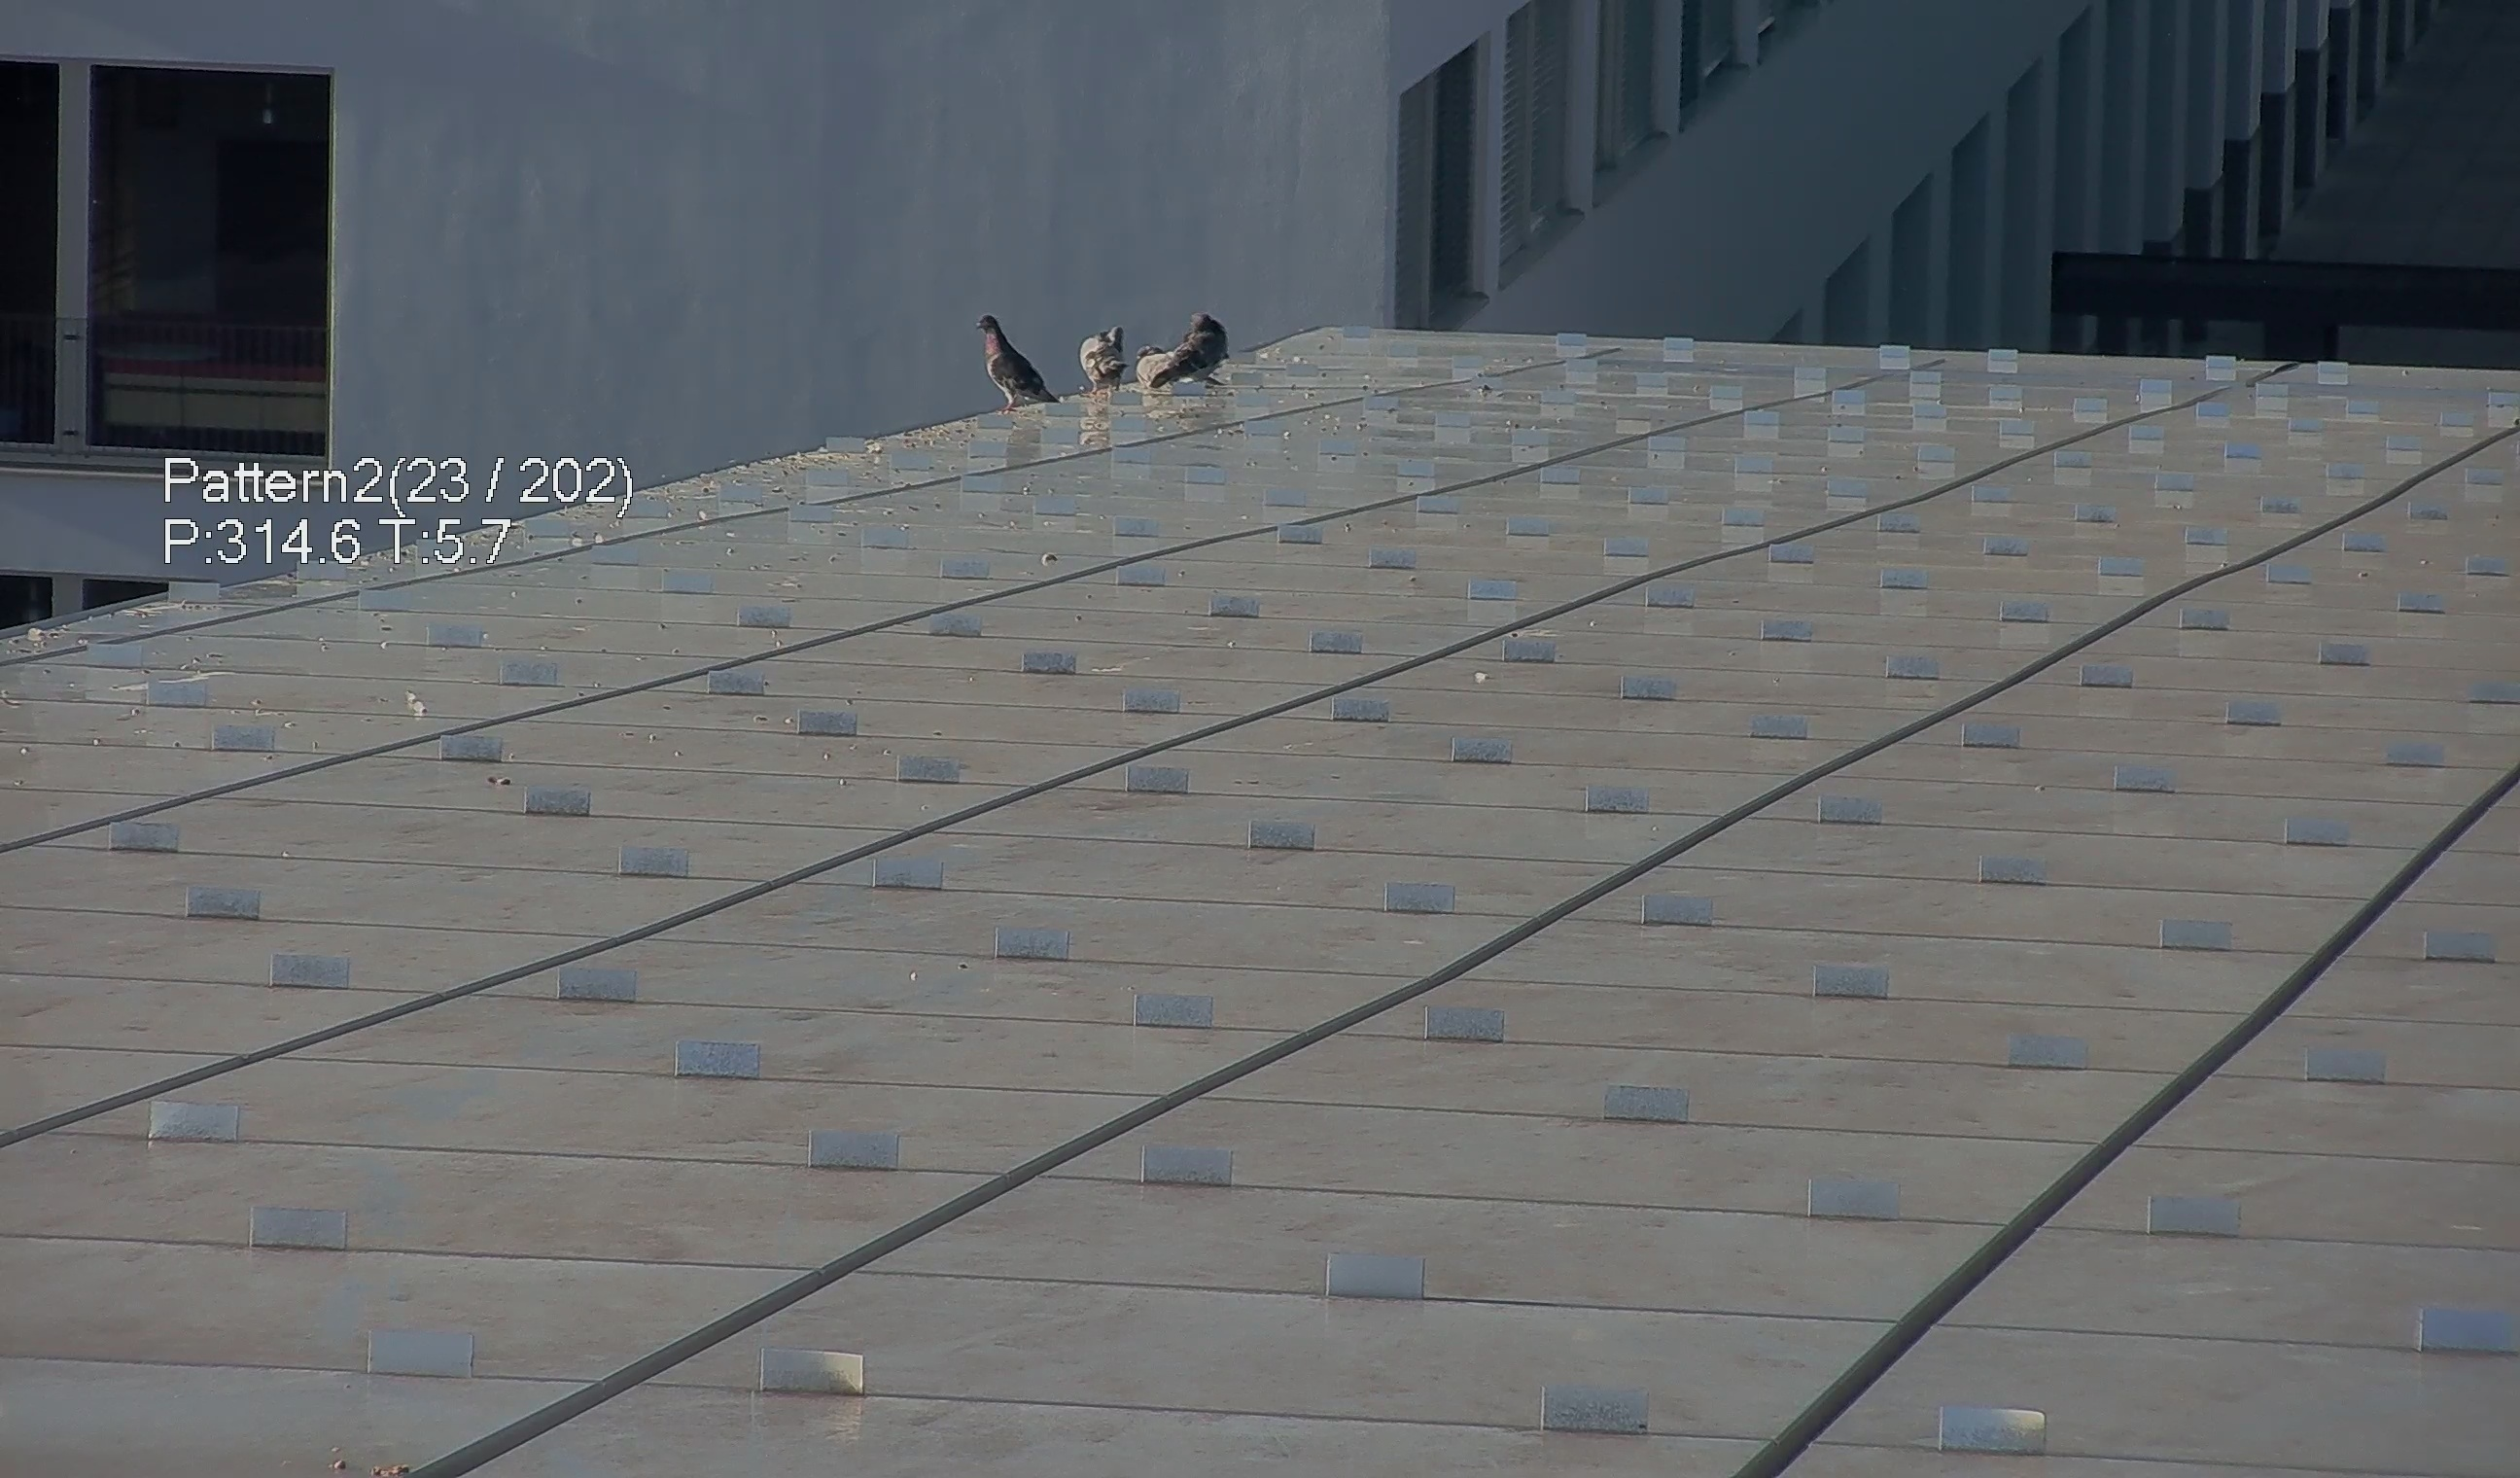Pigeon: (958, 306, 1062, 413), (1134, 294, 1229, 394), (1074, 317, 1134, 401), (1129, 345, 1180, 385)
